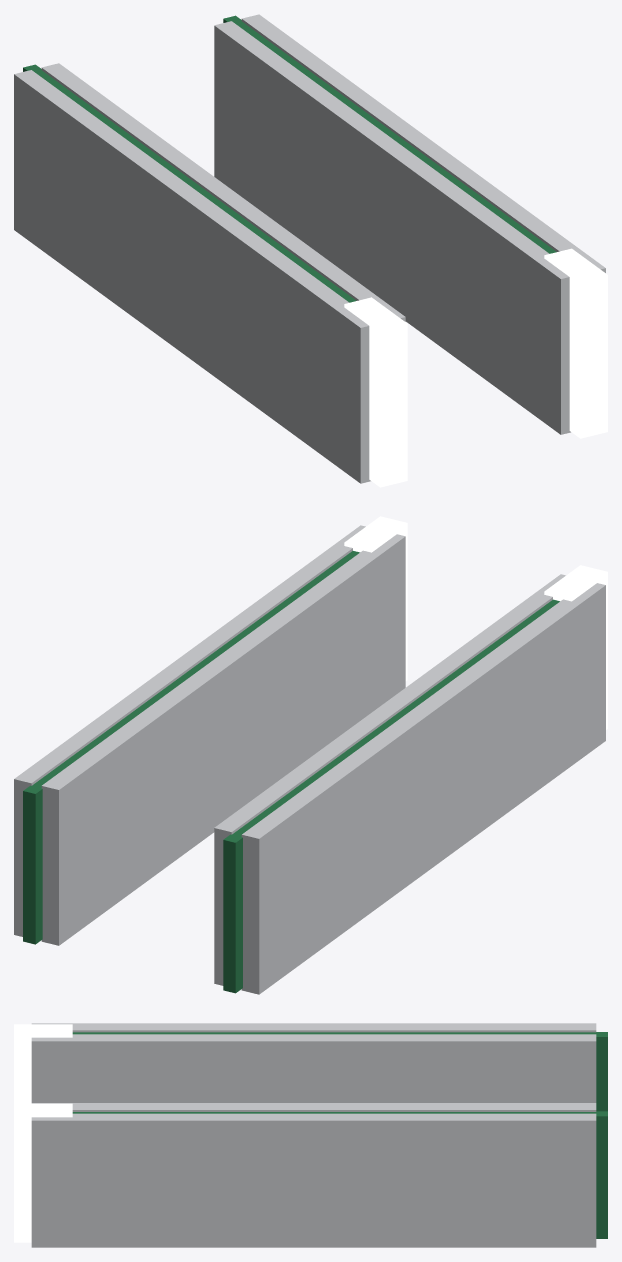
The model's file is ram.glb.
3 renders of one model, top to bottom at view 1: azimuth 30°, elevation 25°; view 2: azimuth 150°, elevation 25°; view 3: azimuth 270°, elevation 25°, orthographic. The views are drawn at different scales.
Visible parts, largest first — view 1: world; view 2: world; view 3: world.
Boxes of the visible parts, x1,y1,x2,y2 form: world: (14, 14, 607, 487); world: (14, 516, 607, 994); world: (14, 1023, 607, 1247).
Bounding box in the file's own units: 1.96 × 1.22 × 5.05.
